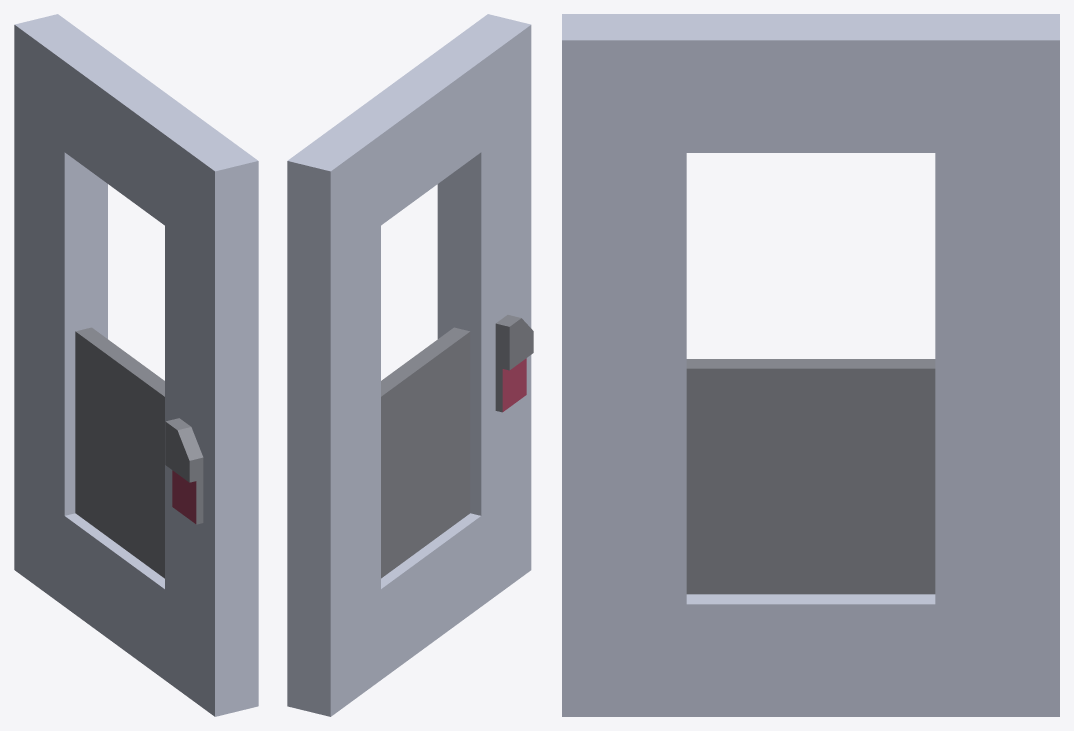
The picture shows the model from 3 angles, left to right: view 1: azimuth 30°, elevation 25°; view 2: azimuth 150°, elevation 25°; view 3: azimuth 270°, elevation 25°; orthographic projection. The views are drawn at different scales.
Parts seen in each view (by area): view 1: object_030; view 2: object_030; view 3: object_030.
Boxes of the visible parts, box(x1,y1,x2,y2) form: object_030: box(14, 14, 258, 716); object_030: box(287, 14, 533, 716); object_030: box(562, 14, 1059, 716).
Size of the model in its own units: 0.825 by 7.5 by 5.
